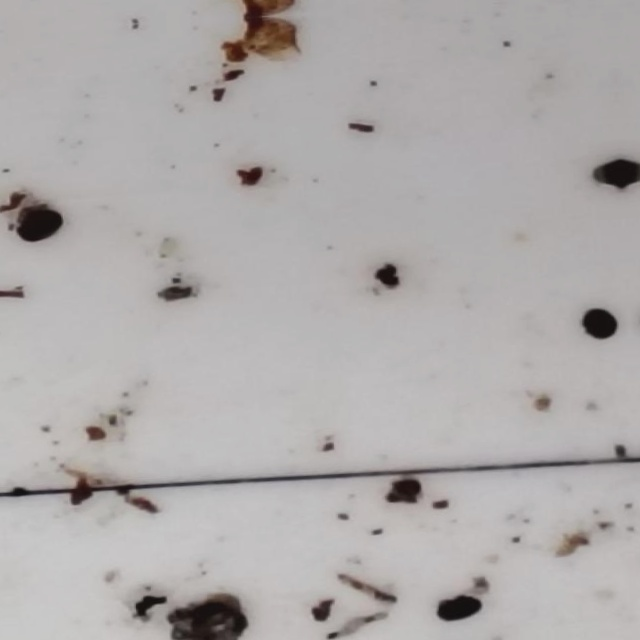varroa: (11, 206, 61, 248), (579, 306, 621, 345), (434, 592, 485, 623), (588, 158, 621, 196)
